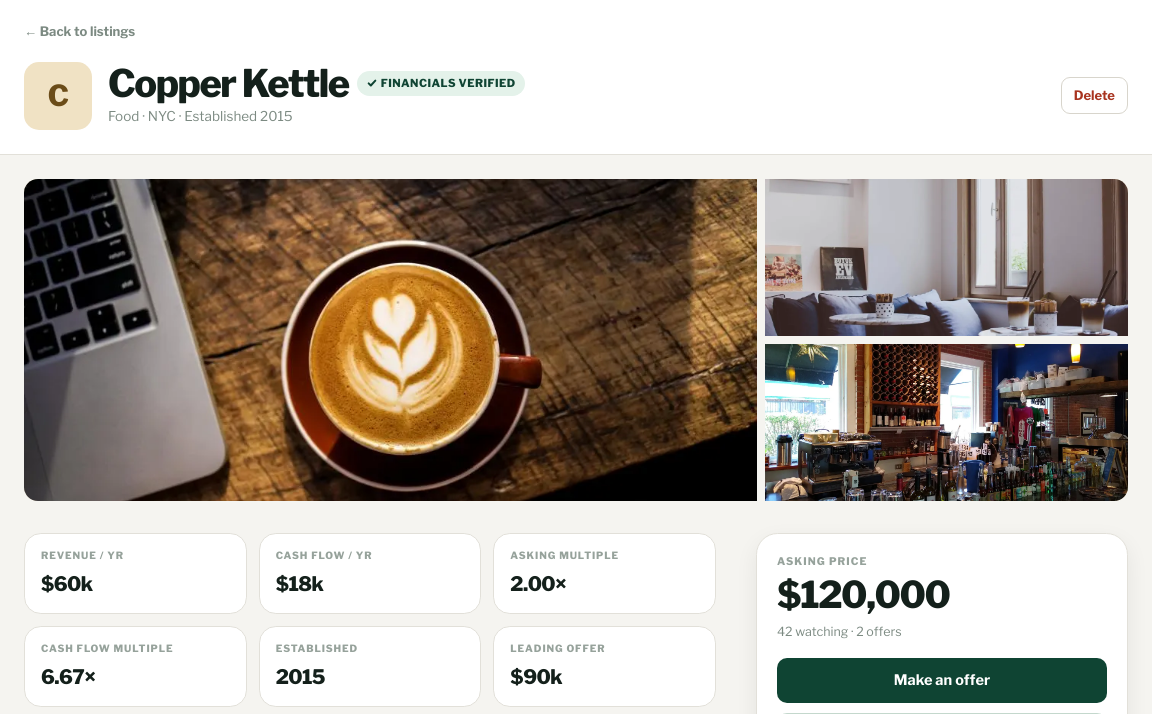
Test: ListingDetail › make an offer › opens the modal with the listing summary
Expected: the heading "Copper Kettle" is shown, [108, 64, 349, 102]
Click the button "Make an offer" at (942, 680), box [777, 658, 1107, 703]
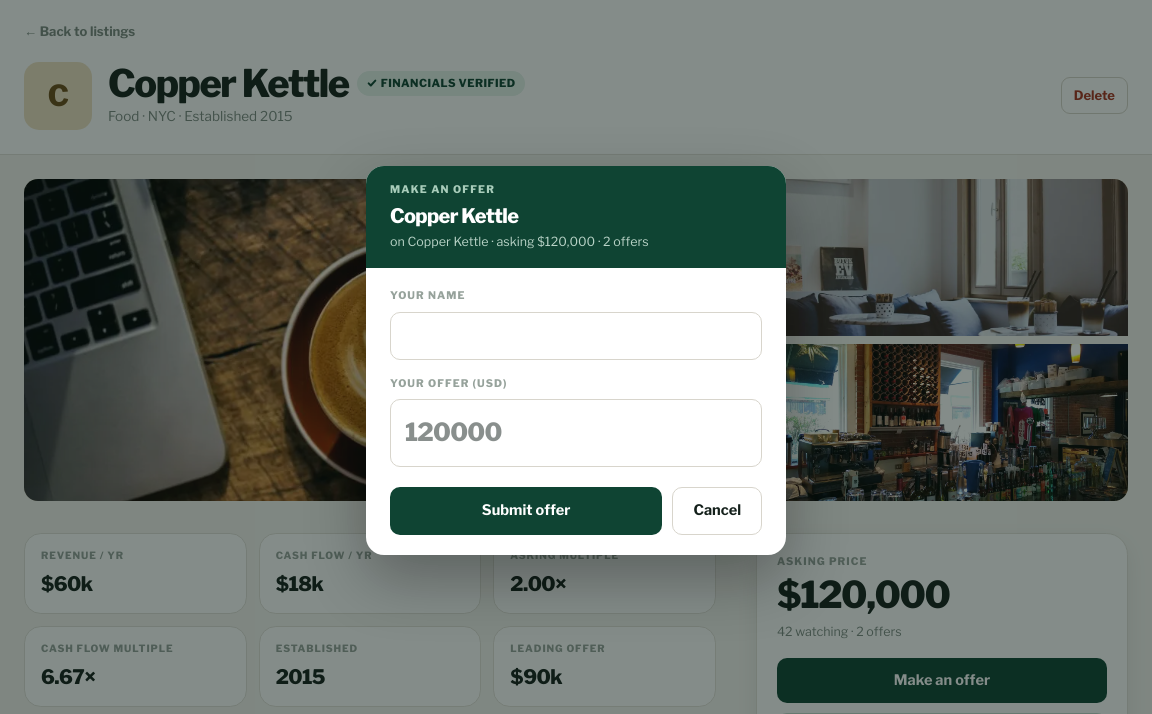
Expected: the text "on Copper Kettle · asking $120,000 · 2 offers" is shown, [390, 234, 649, 249]
